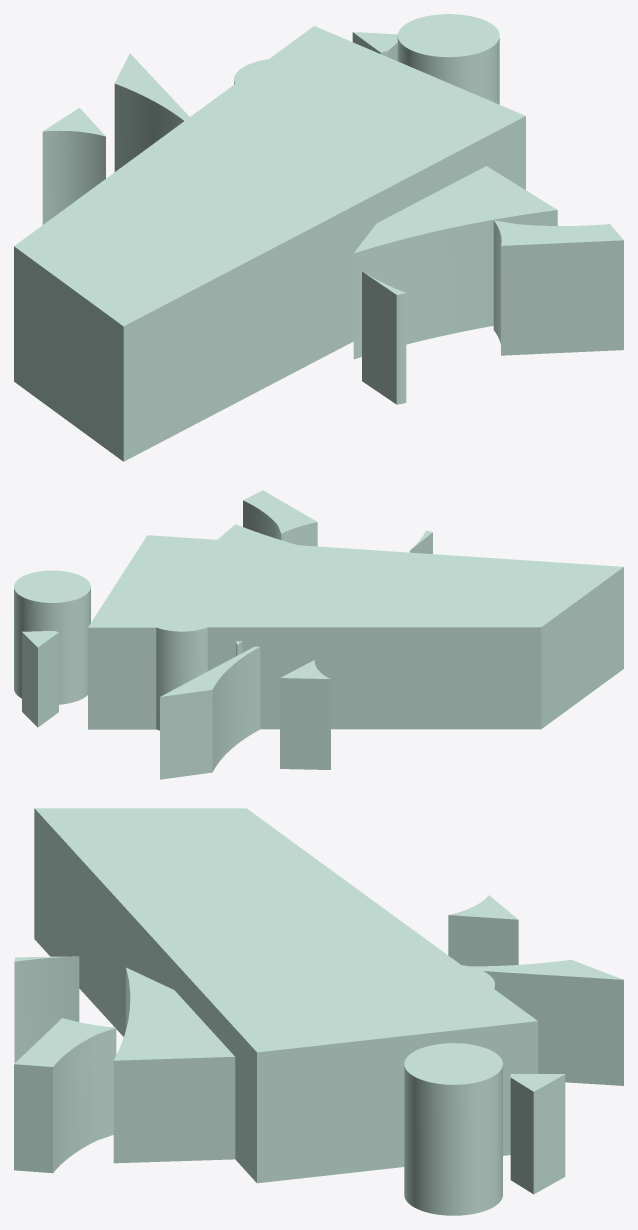
3 views of the same model, one above another, from view 1: azimuth 30°, elevation 25°; view 2: azimuth 150°, elevation 25°; view 3: azimuth 270°, elevation 25° (orthographic). The views are drawn at different scales.
Parts seen in each view (by area): view 1: Renderer Node; view 2: Renderer Node; view 3: Renderer Node.
Part boxes in pixels (bbox=[...]): Renderer Node: bbox=[14, 14, 623, 461]; Renderer Node: bbox=[14, 490, 623, 779]; Renderer Node: bbox=[14, 808, 623, 1215].
Size of the model in its own units: 1.31 by 0.2891 by 1.22.
